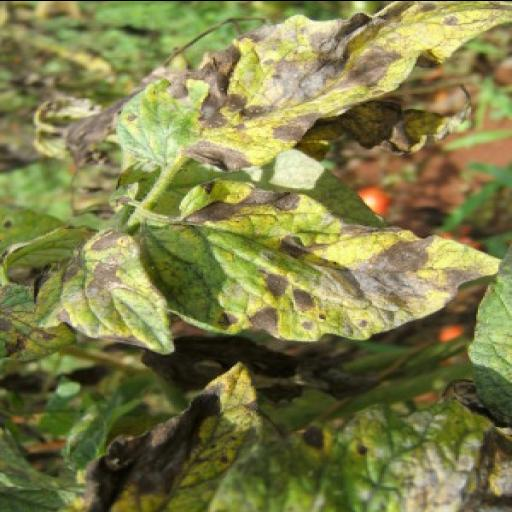disease_tomato: (122, 0, 502, 182), (140, 183, 500, 341)
